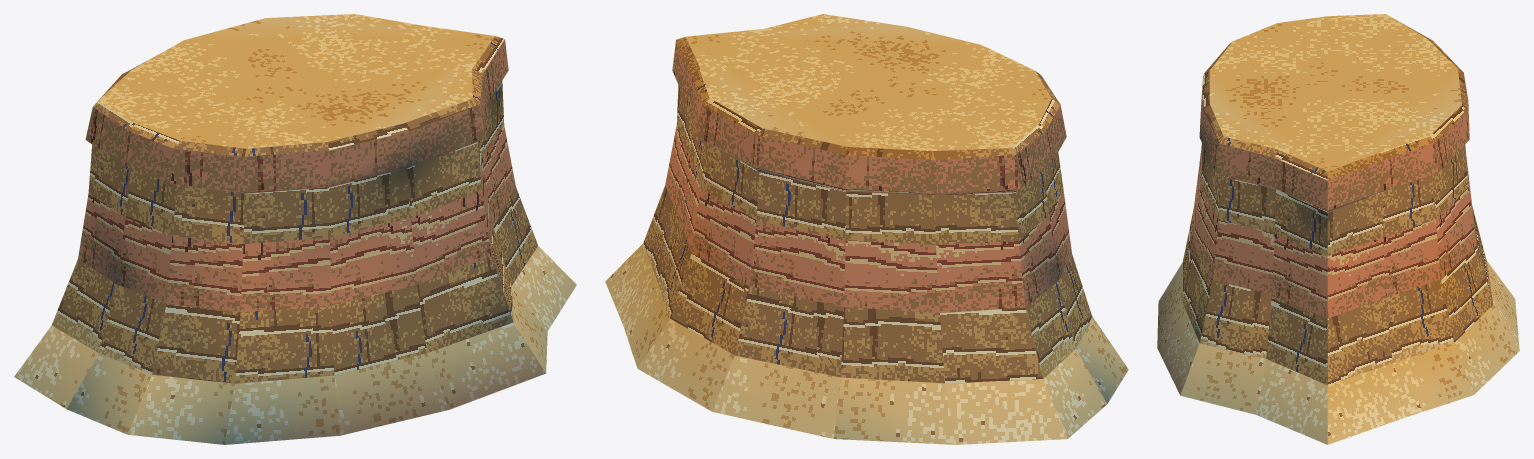
File: wland.mesa__small.glb
3 renders of one model, left to right at view 1: azimuth 30°, elevation 25°; view 2: azimuth 150°, elevation 25°; view 3: azimuth 270°, elevation 25°, orthographic. The views are drawn at different scales.
Parts seen in each view (by area): view 1: kit_mesa; view 2: kit_mesa; view 3: kit_mesa.
Boxes of the visible parts, x1,y1,x2,y2 form: kit_mesa: [14, 14, 576, 444]; kit_mesa: [605, 14, 1128, 444]; kit_mesa: [1157, 14, 1519, 444].
Bounding box in the file's own units: 14.08 × 7 × 9.66.
4 materials, 4 textured.
